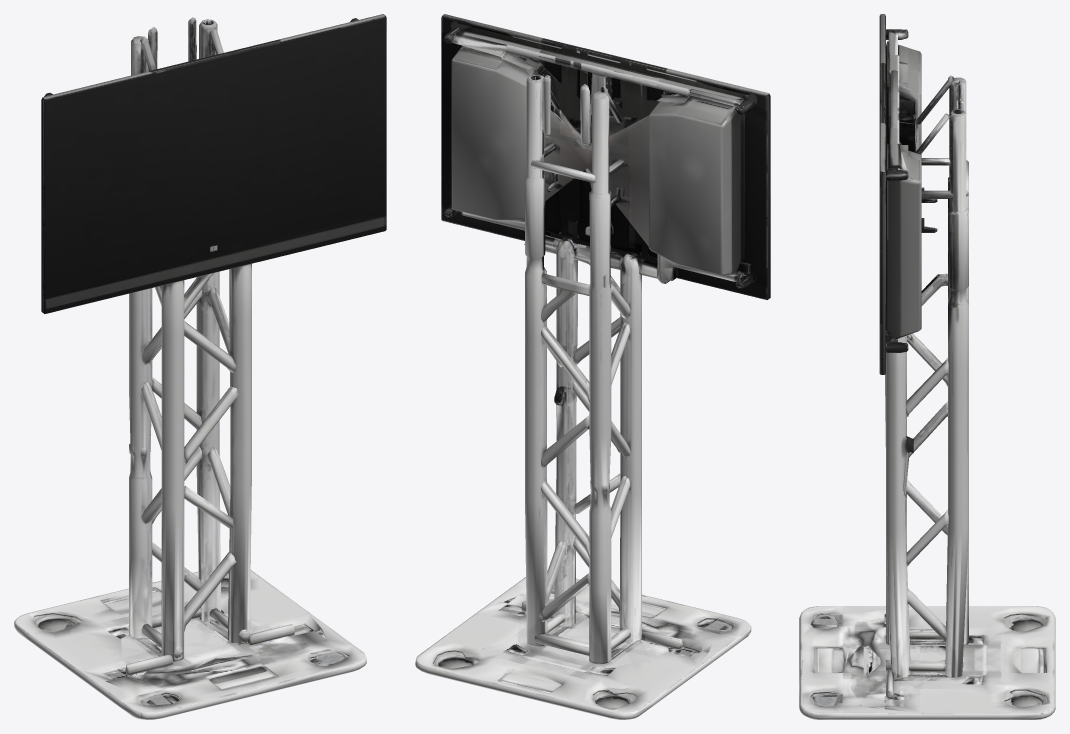
File: tv_on_truss_stand_0126175838_texture_v2_20260927.glb
The picture shows the model from 3 angles, left to right: view 1: azimuth 30°, elevation 25°; view 2: azimuth 150°, elevation 25°; view 3: azimuth 270°, elevation 25°; orthographic projection. The views are drawn at different scales.
Visible parts, largest first — view 1: Mesh_0; view 2: Mesh_0; view 3: Mesh_0.
Boxes of the visible parts, <box> form: Mesh_0: <box>14,14,386,719</box>; Mesh_0: <box>415,14,770,719</box>; Mesh_0: <box>799,14,1055,719</box>.
Size of the model in its own units: 1.43 by 2.44 by 0.9764.
Materials: 1 (1 with a texture image).
